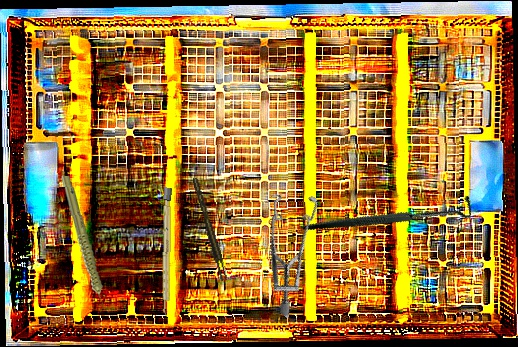Handpiece: (60, 174, 105, 314)
Hook Surgical: (300, 141, 479, 287)
Scalpel Handle: (161, 187, 172, 317)
Speculum: (217, 175, 357, 319)
Tissue Forceps: (192, 176, 228, 282)
